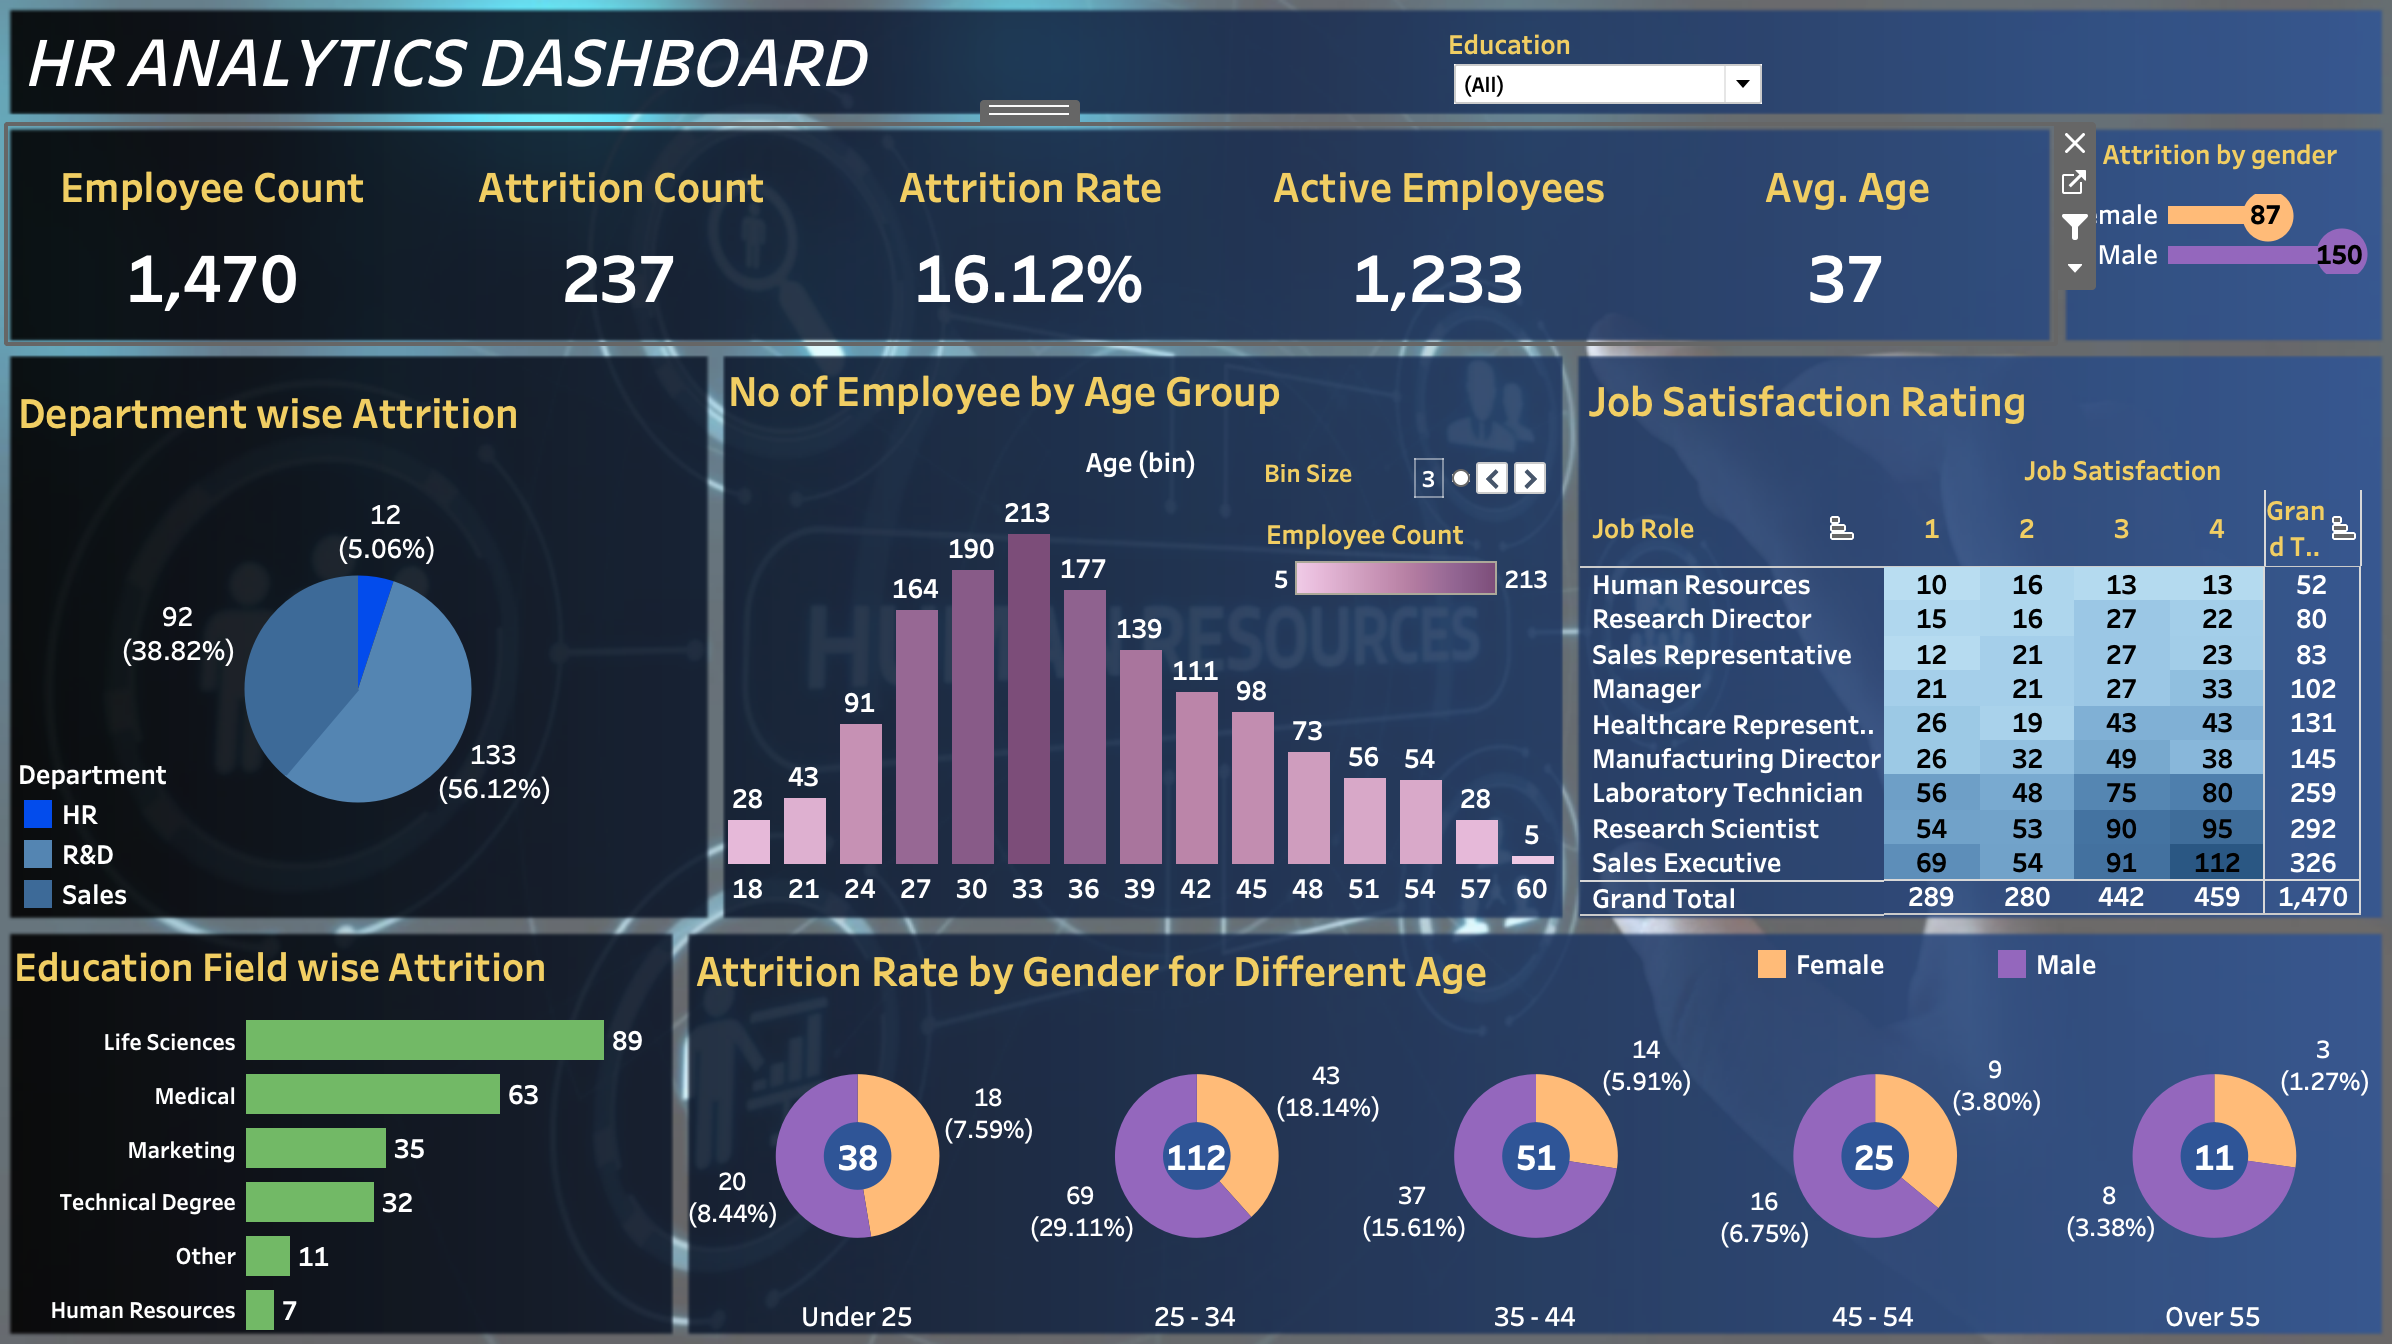

What the dashboard file says about the page in this screenshot:
{"tool":"tableau","page":{"name":"Dashboard 1","canvas":[1000,1000],"units":"permille","ordinal":0},"visuals":[{"type":"image","param":"Image/HR background.pptx.png","box":[6.6,10.5,986.9,979.1]},{"type":"text","box":[17.2,73.2,470.5,52.3]},{"type":"filter","title":"Attrition Rate by Gender for Different Age","param":"[federated.089yxa50p0mt150zphsaf1y8ay1x].[none:Education:nk]","box":[603.3,77.1,131.2,51]},{"type":"worksheet","title":"KPI","mark":"Automatic","box":[13.1,142.5,838.5,141.2]},{"type":"worksheet","title":"Attrition by gender","mark":"Automatic","rows":["Gender"],"cols":["Calculation_0136541111627776","Calculation_0136541111627776"],"box":[855.7,143.8,127.9,139.9]},{"type":"worksheet","title":"No of Employee by Age Group","mark":"Automatic","rows":["Employee Count"],"cols":["Age (bin)"],"box":[304.9,291.5,344.3,362.1]},{"type":"worksheet","title":"Job Satisfaction Rating","mark":"Square","rows":["Job Role"],"cols":["Job Satisfaction"],"box":[657.4,298,320.5,360.8]},{"type":"worksheet","title":"Department wise Attrition","mark":"Pie","box":[13.9,305.9,285.2,352.9]},{"type":"parameter","param":"[Parameters].[Parameter 0136541136412682]","box":[527.9,355.6,118,35.3]},{"type":"legend","title":"No of Employee by Age Group","param":"[federated.089yxa50p0mt150zphsaf1y8ay1x].[sum:Employee Count:qk]","box":[528.7,397.4,119.7,69.3]},{"type":"legend","title":"Department wise Attrition","param":"[federated.089yxa50p0mt150zphsaf1y8ay1x].[none:Department:nk]","box":[17.2,554.2,114.8,102]},{"type":"worksheet","title":"Education Field wise Attrition","mark":"Automatic","rows":["Education Field"],"cols":["Calculation_0136541111627776"],"box":[12.3,669.3,272.9,264.1]},{"type":"worksheet","title":"Attrition Rate by Gender for Different Age","mark":"Pie","rows":["Calculation_0136541152235532","Calculation_0136541152235532"],"cols":["CF_age band"],"box":[291.8,670.6,695.1,262.8]},{"type":"legend","title":"Attrition Rate by Gender for Different Age","param":"[federated.089yxa50p0mt150zphsaf1y8ay1x].[none:Gender:nk]","box":[727.9,677.1,246.7,47.1]}]}

Visuals, with their boxes on the dashboard's canvas, which has no fixed pixel size, in thousandths of its width and height (x1, y1, x2, y2). These are canvas units, not pixel positions in the 2392x1344 screenshot, which may show the page scaled, cropped or inside an application window:
image: <bbox>7, 10, 994, 990</bbox>
text: <bbox>17, 73, 488, 126</bbox>
"Attrition Rate by Gender for Different Age" filter: <bbox>603, 77, 734, 128</bbox>
"KPI" worksheet: <bbox>13, 142, 852, 284</bbox>
"Attrition by gender" worksheet: <bbox>856, 144, 984, 284</bbox>
"No of Employee by Age Group" worksheet: <bbox>305, 292, 649, 654</bbox>
"Job Satisfaction Rating" worksheet (Square marks): <bbox>657, 298, 978, 659</bbox>
"Department wise Attrition" worksheet (Pie marks): <bbox>14, 306, 299, 659</bbox>
parameter: <bbox>528, 356, 646, 391</bbox>
"No of Employee by Age Group" legend: <bbox>529, 397, 648, 467</bbox>
"Department wise Attrition" legend: <bbox>17, 554, 132, 656</bbox>
"Education Field wise Attrition" worksheet: <bbox>12, 669, 285, 933</bbox>
"Attrition Rate by Gender for Different Age" worksheet (Pie marks): <bbox>292, 671, 987, 933</bbox>
"Attrition Rate by Gender for Different Age" legend: <bbox>728, 677, 975, 724</bbox>
